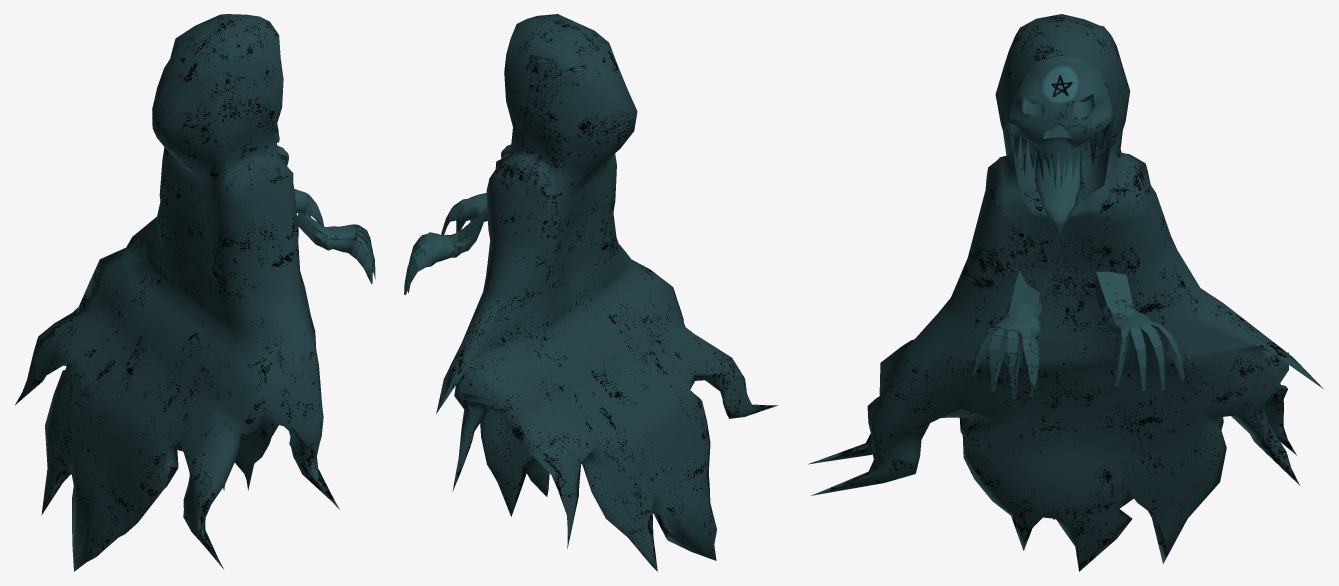
File: Ghost3.fbx
The picture shows the model from 3 angles, left to right: view 1: azimuth 30°, elevation 25°; view 2: azimuth 150°, elevation 25°; view 3: azimuth 270°, elevation 25°; orthographic projection. The views are drawn at different scales.
Visible parts, largest first — view 1: cloak, right_hand, left_hand; view 2: cloak, left_hand, right_hand; view 3: cloak, skull, left_hand, right_hand.
Boxes of the visible parts, x1,y1,x2,y2 form: cloak: (15, 14, 339, 571); right_hand: (297, 212, 375, 283); left_hand: (294, 189, 324, 226); cloak: (436, 14, 777, 571); left_hand: (404, 208, 487, 295); right_hand: (441, 193, 487, 235); cloak: (808, 14, 1323, 571); skull: (1007, 56, 1113, 237); left_hand: (1095, 271, 1184, 390); right_hand: (970, 269, 1041, 398).
Size of the model in its own units: 88.15 by 149 by 119.
